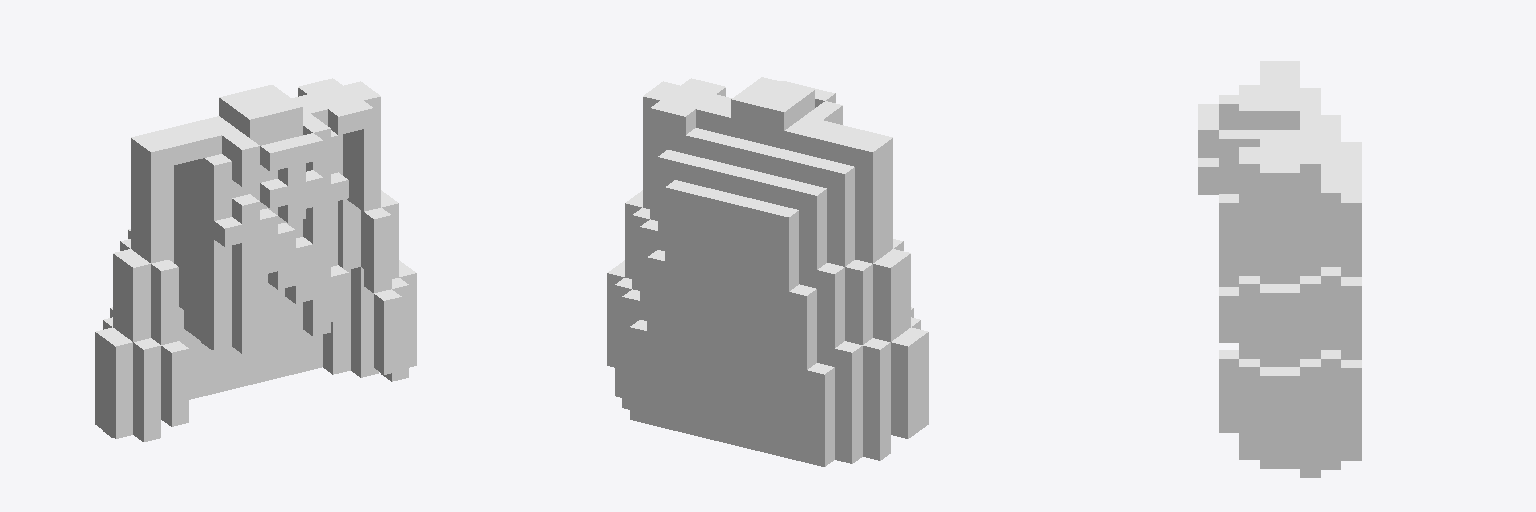
The model's file is Ain-5.obj.
3 views of the same model, side by side, from view 1: azimuth 30°, elevation 25°; view 2: azimuth 150°, elevation 25°; view 3: azimuth 270°, elevation 25° (orthographic).
Visible parts, largest first — view 1: Ain-5; view 2: Ain-5; view 3: Ain-5.
Boxes of the visible parts, box(x1,y1,x2,y2) form: Ain-5: box(95, 78, 416, 441); Ain-5: box(607, 77, 928, 466); Ain-5: box(1198, 61, 1361, 477).
Size of the model in its own units: 17 by 17 by 8.